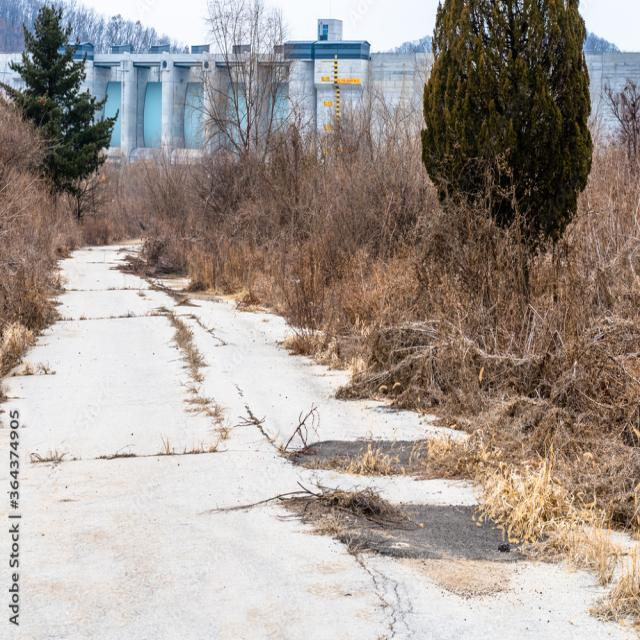Pothole: (211, 301, 640, 628)
